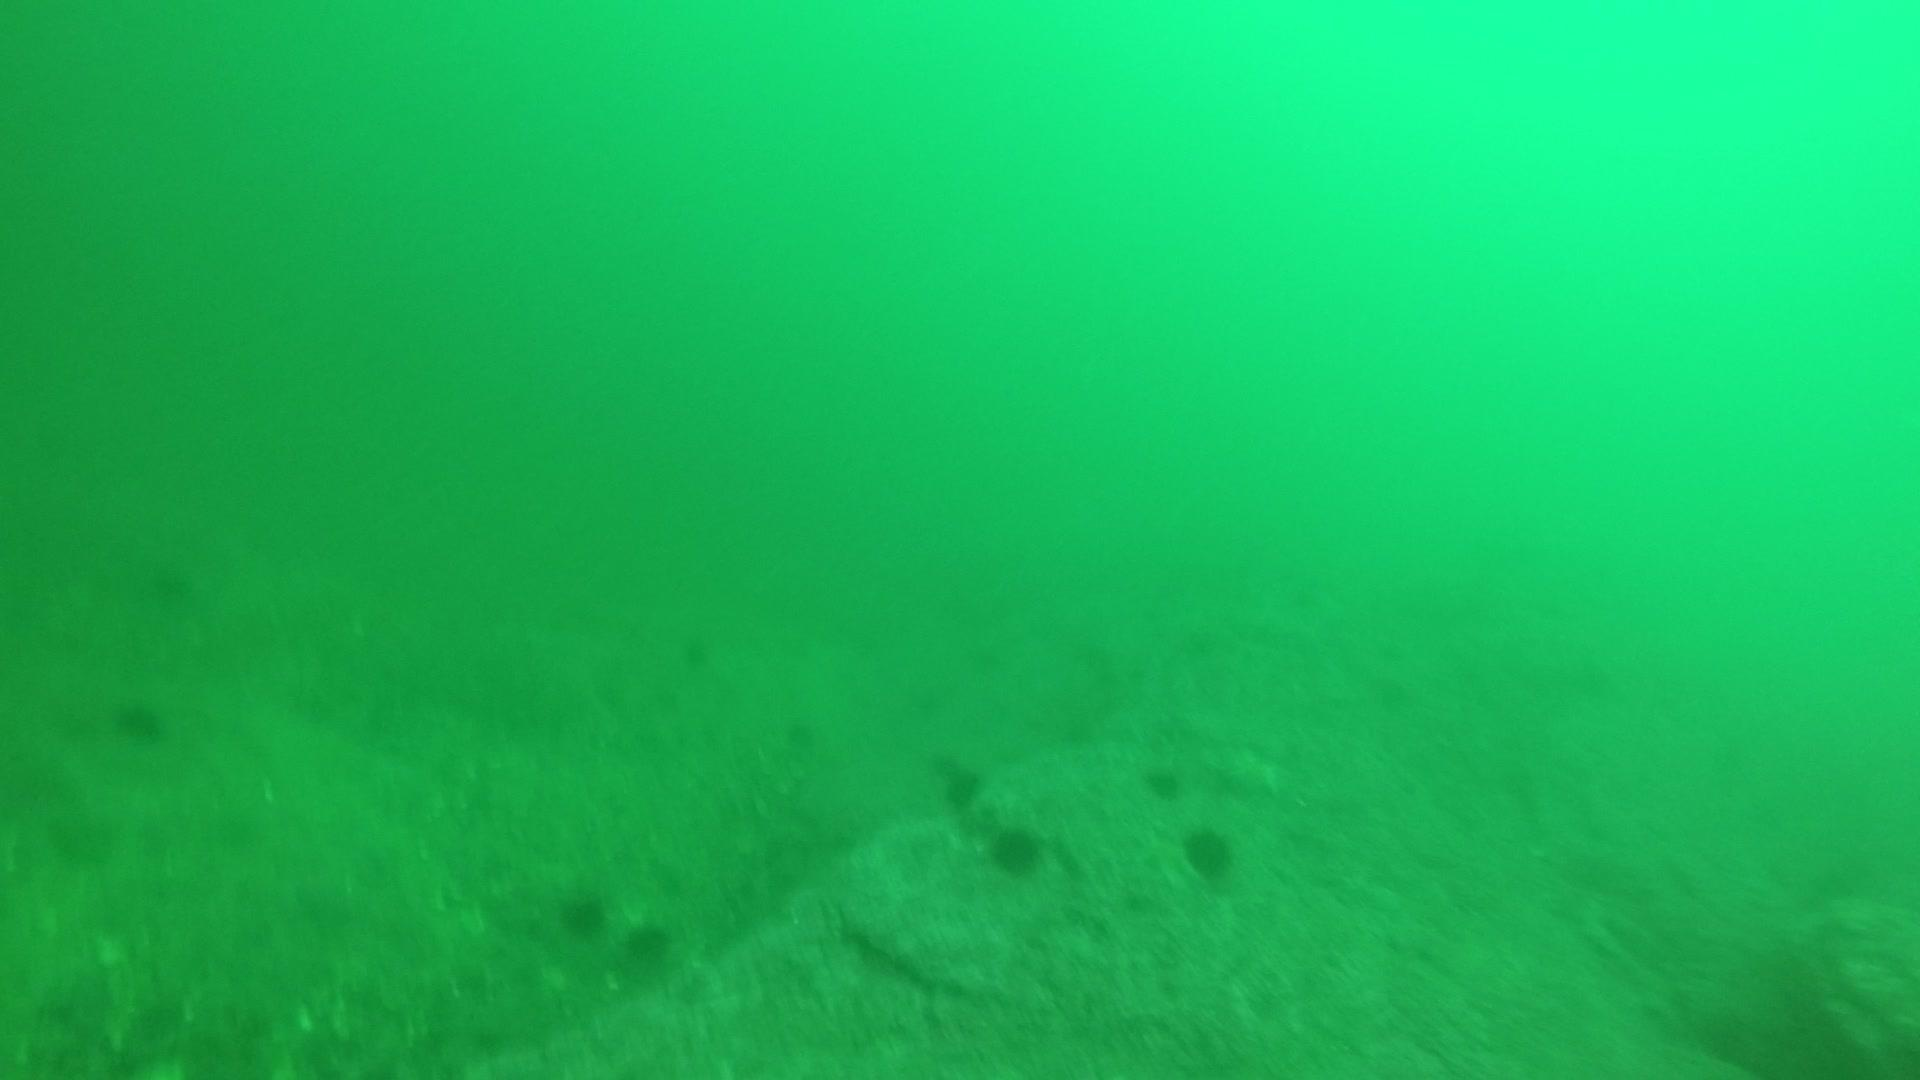echinus: (616, 915, 680, 978), (984, 819, 1048, 880), (1178, 822, 1240, 882), (554, 882, 613, 942), (142, 563, 204, 617), (765, 711, 827, 765), (670, 629, 732, 683), (931, 752, 986, 811), (109, 694, 171, 746), (1139, 758, 1185, 804)
